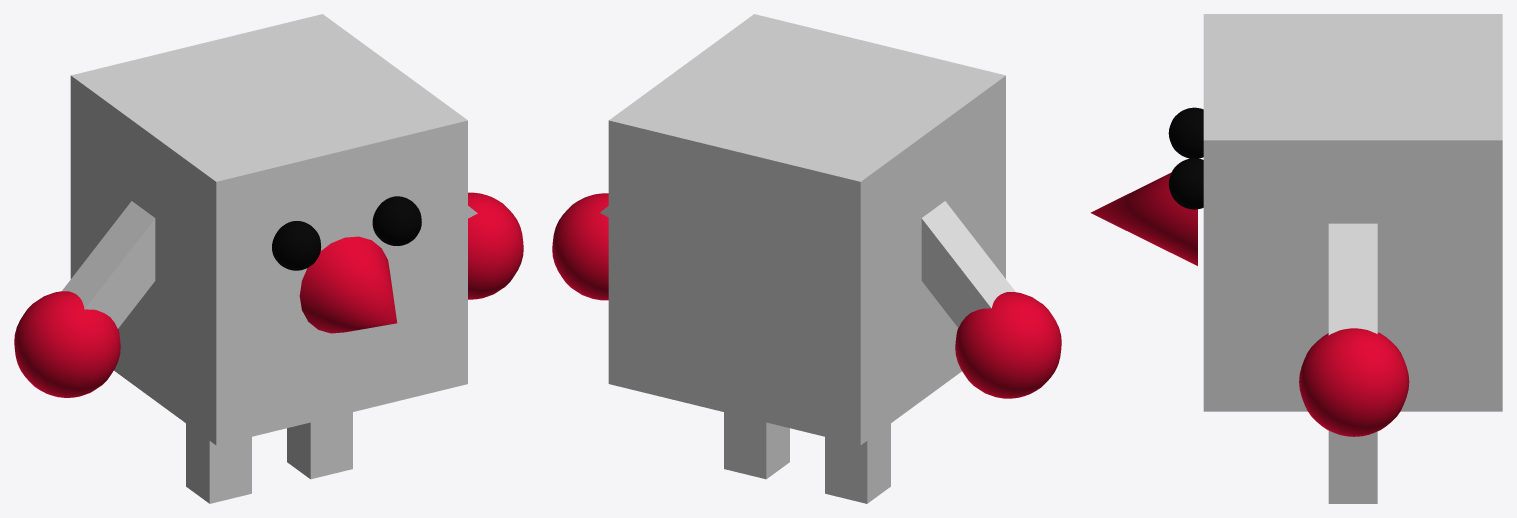
File: meleeEnemy.fbx
3 renders of one model, left to right at view 1: azimuth 30°, elevation 25°; view 2: azimuth 150°, elevation 25°; view 3: azimuth 270°, elevation 25°, orthographic. The views are drawn at different scales.
Parts seen in each view (by area): view 1: pCube6; view 2: pCube6; view 3: pCube6.
Boxes of the visible parts, <box> form: pCube6: <box>14,14,523,503</box>; pCube6: <box>552,14,1061,503</box>; pCube6: <box>1090,14,1502,503</box>.
Size of the model in its own units: 1.97 by 1.44 by 1.38.
